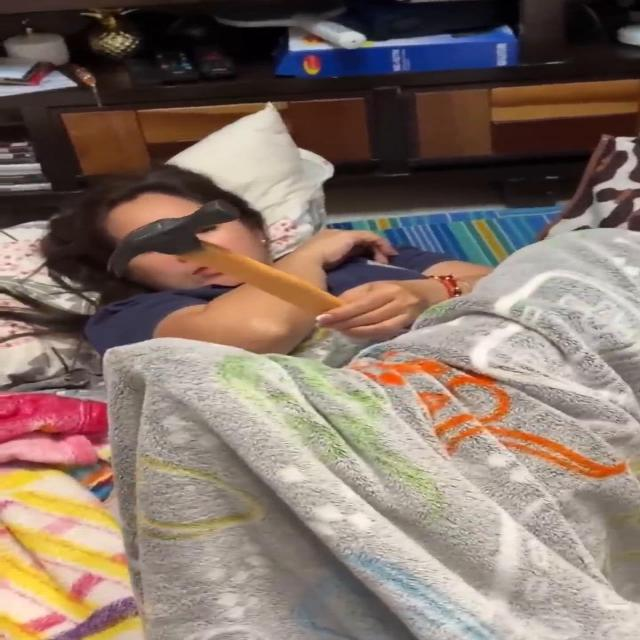hammer: (108, 200, 344, 315)
